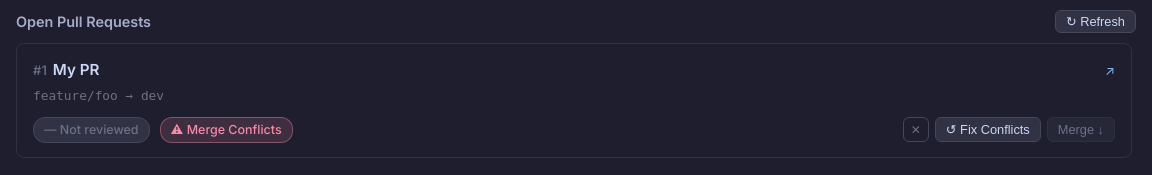
Test: PRPanel — inflight state cleared by WS events › clears fixConflictsInFlight when prStateChangedEvent arrives
Click the button "↺ Fix Conflicts": click(988, 130) [935,117,1041,142]
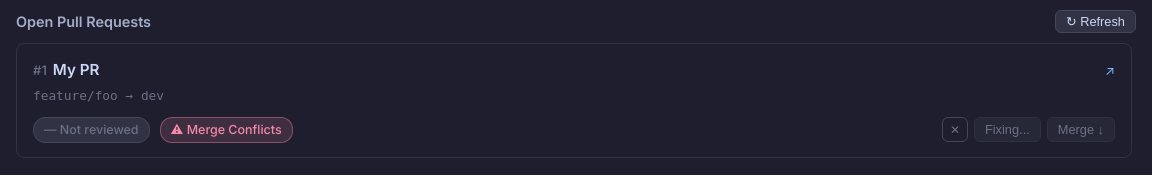
Expected: the button "Fixing..." is shown, [974,117,1041,142]
